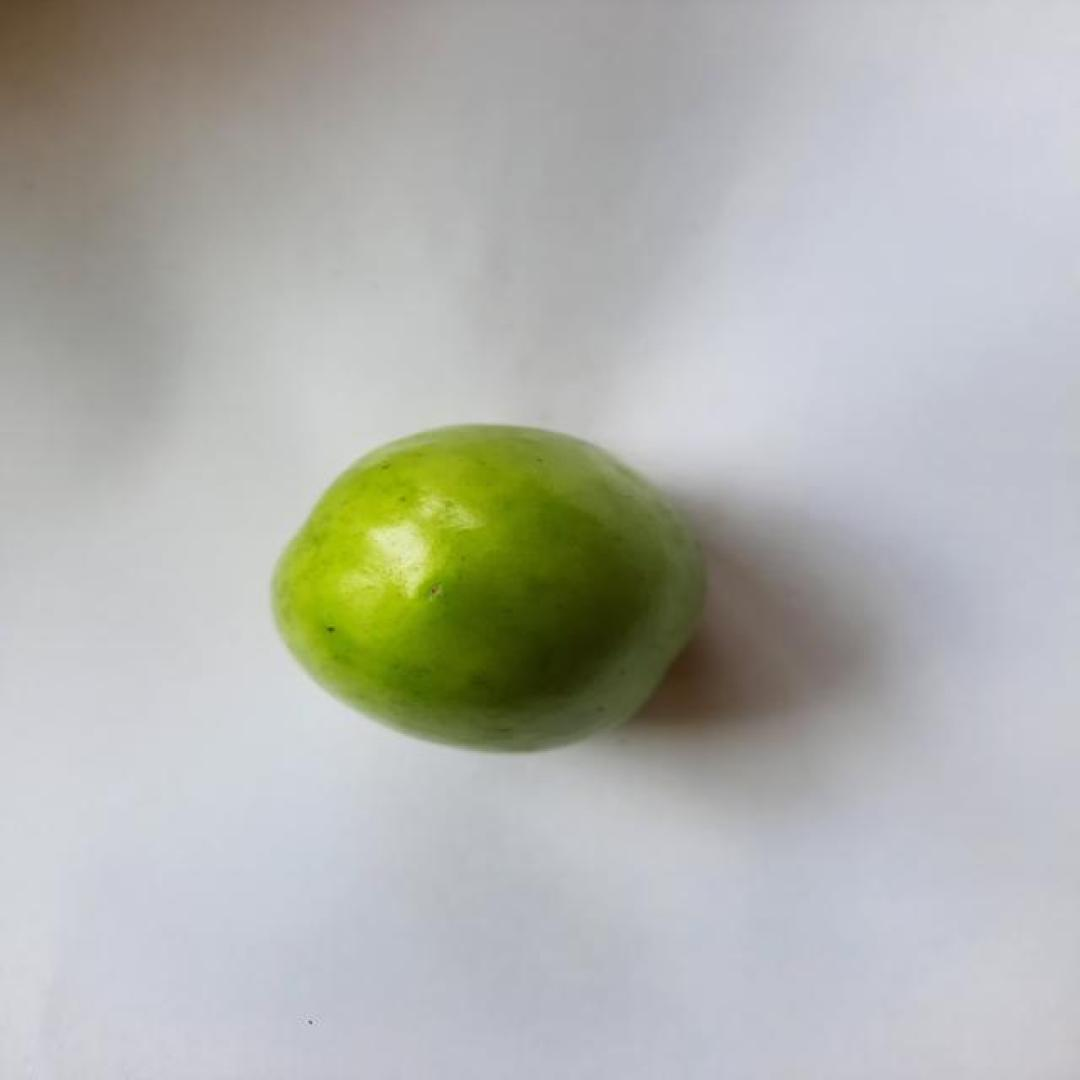mentah: (266, 420, 704, 760)
